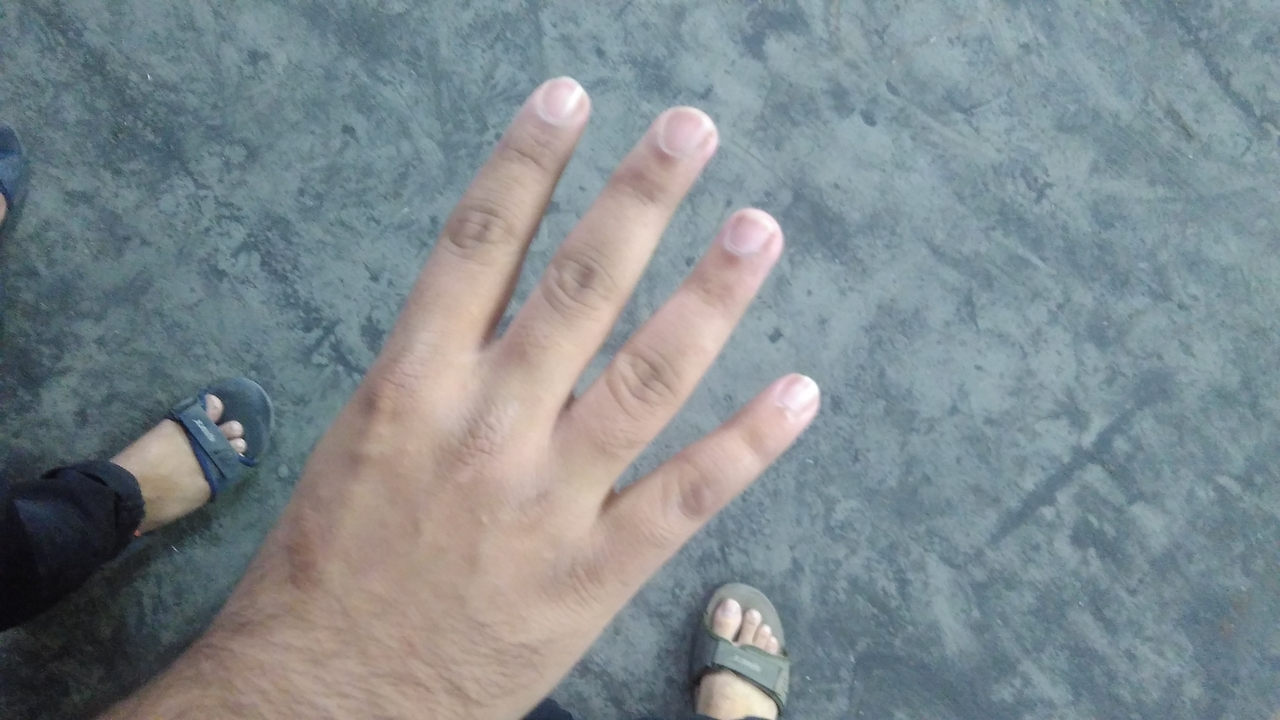fingertip: (644, 100, 730, 168), (744, 362, 838, 424), (714, 198, 794, 268), (524, 74, 602, 134)
